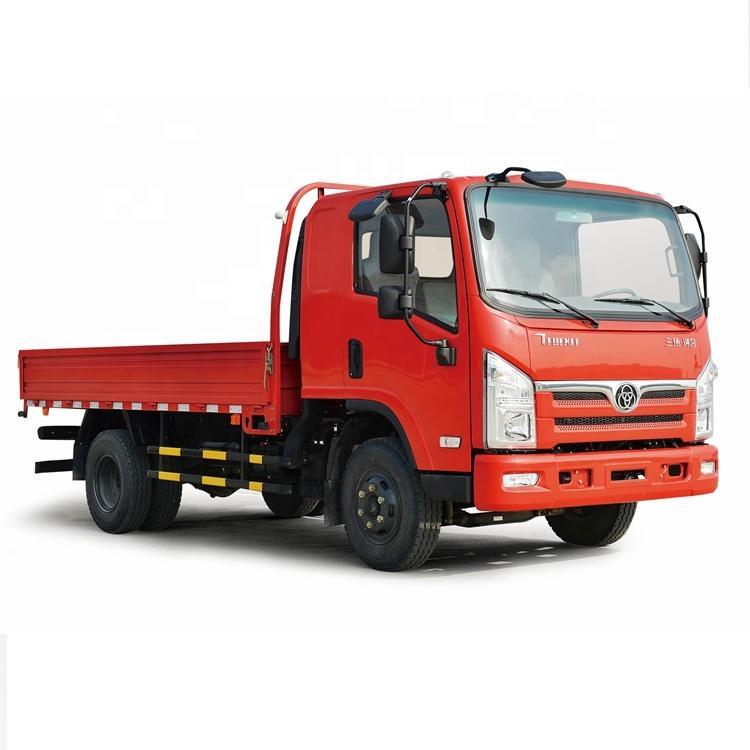truck: (17, 166, 719, 572)
